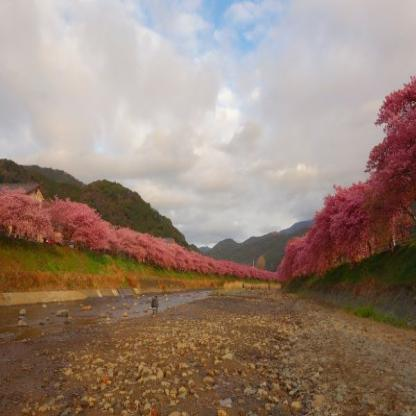KawazuSakura: (270, 74, 416, 294), (0, 187, 294, 283)
